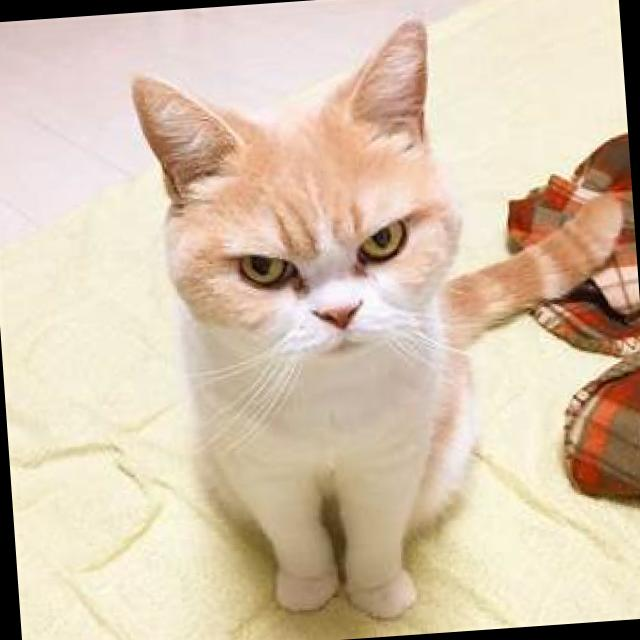cat: (123, 3, 640, 617)
